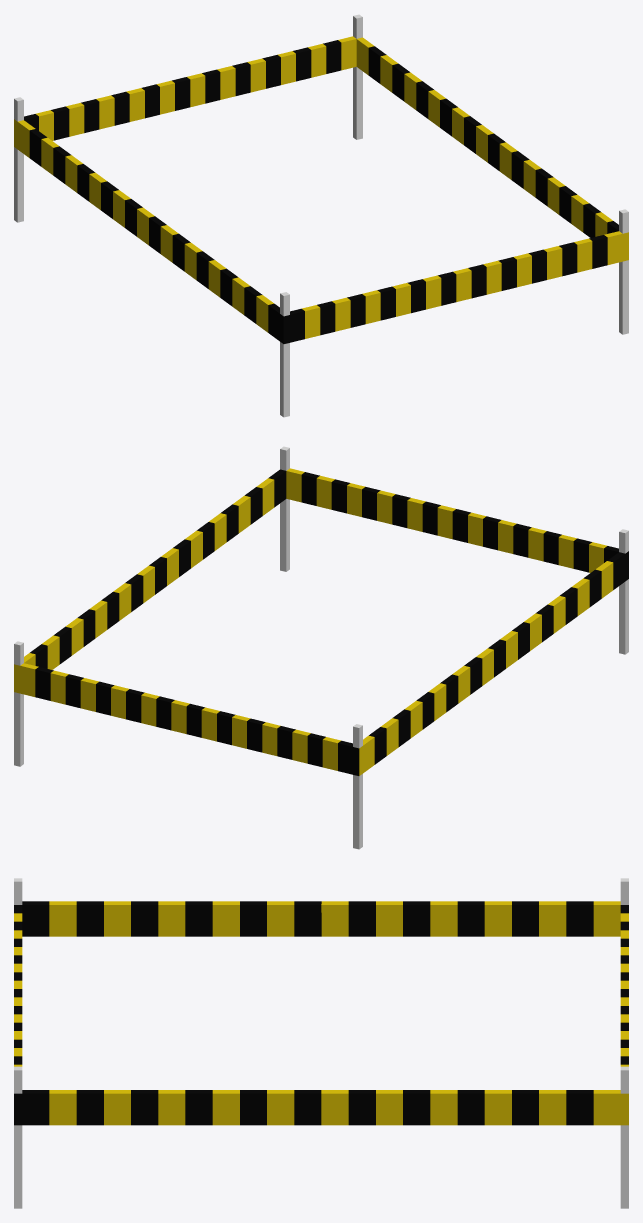
The model's file is tape.fbx.
3 views of the same model, one above another, from view 1: azimuth 30°, elevation 25°; view 2: azimuth 150°, elevation 25°; view 3: azimuth 270°, elevation 25° (orthographic). The views are drawn at different scales.
Parts seen in each view (by area): view 1: Cube.002; view 2: Cube.002; view 3: Cube.002.
Boxes of the visible parts, x1,y1,x2,y2 form: Cube.002: (14, 14, 628, 417); Cube.002: (14, 446, 628, 849); Cube.002: (14, 878, 628, 1208).
Bounding box in the file's own units: 717 × 241 × 971.
